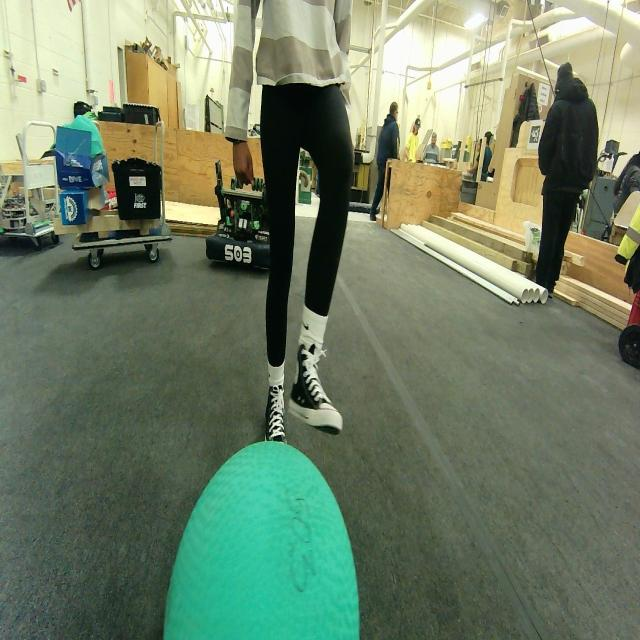algae: (151, 439, 368, 640)
